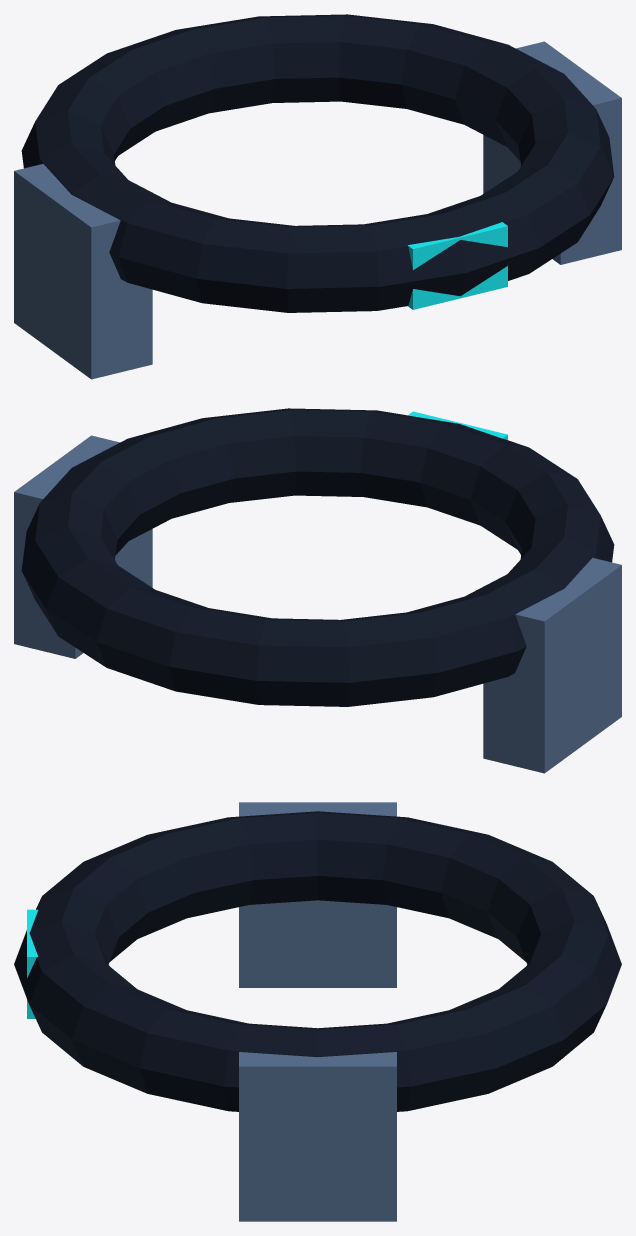
File: Skin_CyberWaist.obj
3 views of the same model, one above another, from view 1: azimuth 30°, elevation 25°; view 2: azimuth 150°, elevation 25°; view 3: azimuth 270°, elevation 25° (orthographic). The views are drawn at different scales.
Parts seen in each view (by area): view 1: Skin_CyberWaist_BaseArmor, Skin_CyberWaist_TrimMetal, Skin_CyberWaist_EmissiveCore; view 2: Skin_CyberWaist_BaseArmor, Skin_CyberWaist_TrimMetal; view 3: Skin_CyberWaist_BaseArmor, Skin_CyberWaist_TrimMetal.
Boxes of the visible parts, x1,y1,x2,y2 form: Skin_CyberWaist_BaseArmor: (21,14,614,312); Skin_CyberWaist_TrimMetal: (14,41,621,379); Skin_CyberWaist_EmissiveCore: (407,222,507,309); Skin_CyberWaist_BaseArmor: (21,408,614,706); Skin_CyberWaist_TrimMetal: (14,435,621,773); Skin_CyberWaist_BaseArmor: (14,811,621,1111); Skin_CyberWaist_TrimMetal: (239,802,396,1221).
Size of the model in its own units: 0.475 by 0.141 by 0.462.
